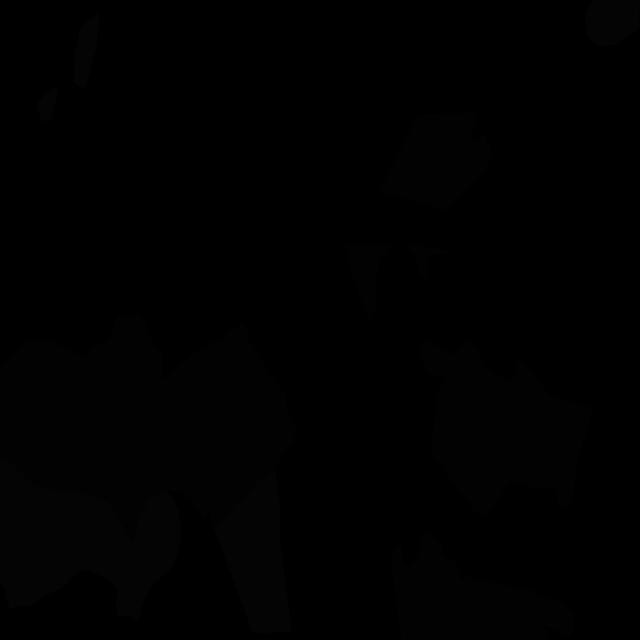cardboard: (0, 314, 297, 542), (419, 339, 594, 516), (391, 530, 574, 640), (379, 112, 493, 211), (346, 244, 392, 320), (404, 243, 452, 279)
soft_plastic: (0, 457, 181, 621), (214, 468, 292, 634), (585, 0, 640, 46), (74, 14, 100, 87), (37, 86, 57, 122)
